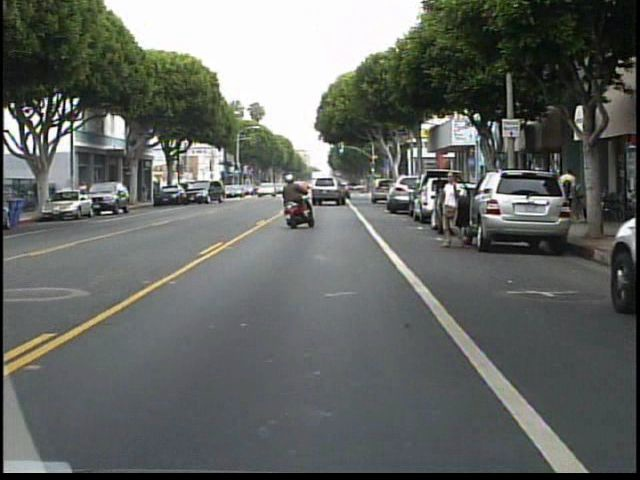person: (275, 169, 317, 230), (438, 166, 467, 251), (558, 165, 579, 226)
